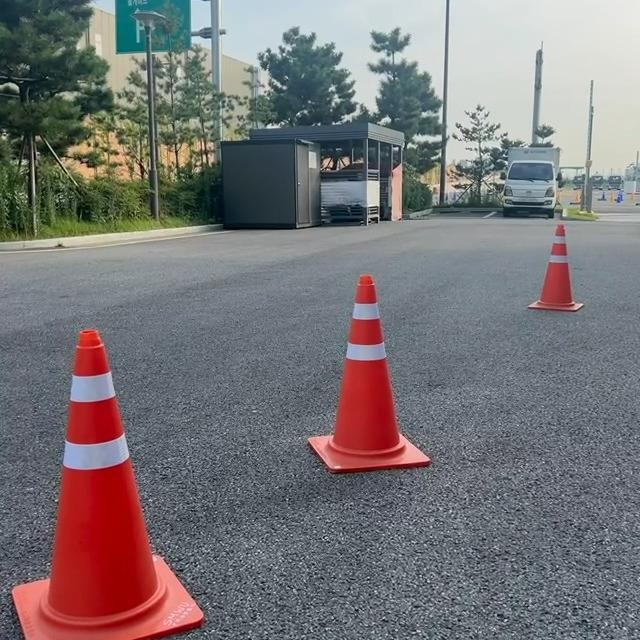fallen_object: (0, 321, 198, 640), (306, 237, 436, 565), (505, 192, 578, 321)
